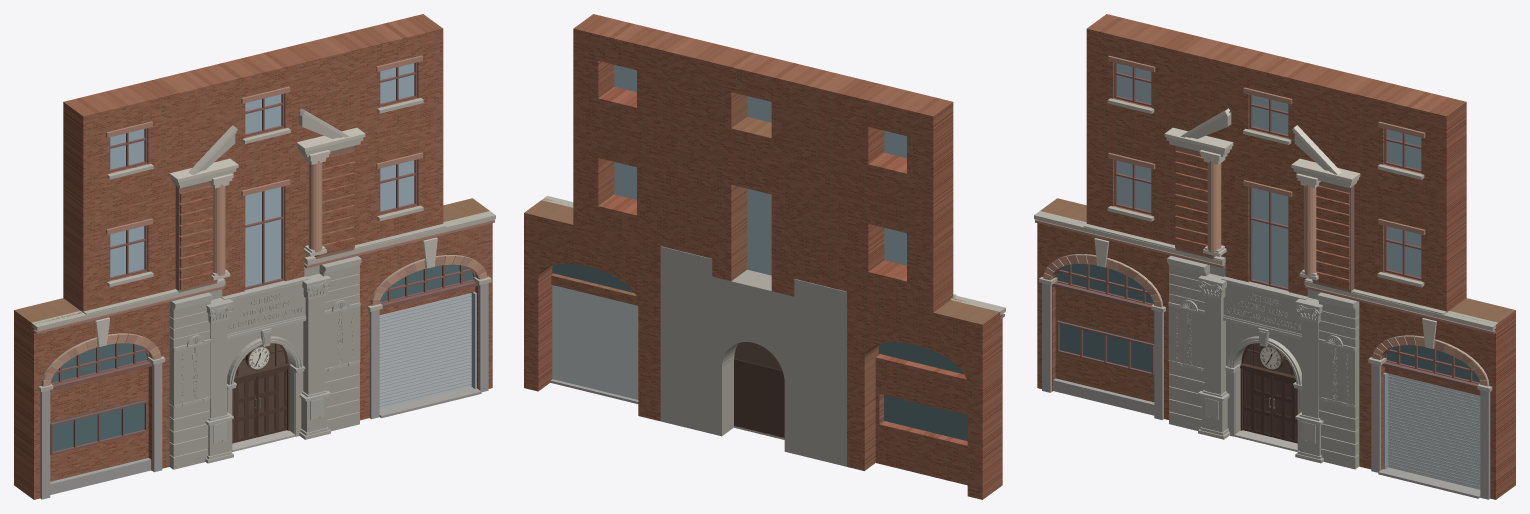
Rendered from huangpu-puguang-ymca-east-entrance-lod.glb.
The picture shows the model from 3 angles, left to right: view 1: azimuth 30°, elevation 25°; view 2: azimuth 150°, elevation 25°; view 3: azimuth 330°, elevation 25°; orthographic projection.
Parts seen in each view (by area): view 1: 浦光大楼（上海基督教青年会）四川中路门头与东立面窗墙; view 2: 浦光大楼（上海基督教青年会）四川中路门头与东立面窗墙; view 3: 浦光大楼（上海基督教青年会）四川中路门头与东立面窗墙.
Part boxes in pixels (<box>): 浦光大楼（上海基督教青年会）四川中路门头与东立面窗墙: <box>14,14,495,499</box>; 浦光大楼（上海基督教青年会）四川中路门头与东立面窗墙: <box>524,14,1005,499</box>; 浦光大楼（上海基督教青年会）四川中路门头与东立面窗墙: <box>1034,14,1515,499</box>.
Size of the model in its own units: 19.43 by 15.04 by 2.11.
24 materials, 1 textured.
